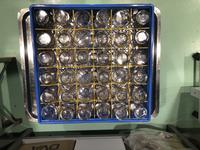Glass: (113, 9, 131, 28), (74, 10, 92, 28), (74, 29, 92, 47), (35, 31, 54, 48), (40, 87, 57, 105), (56, 31, 74, 48), (53, 9, 71, 26), (95, 85, 112, 103), (37, 50, 56, 66), (40, 105, 59, 121), (113, 84, 129, 103), (55, 50, 75, 65), (75, 68, 92, 85), (131, 67, 148, 84), (35, 10, 51, 28), (131, 84, 147, 102), (113, 68, 131, 84), (130, 49, 148, 65), (39, 69, 56, 85), (58, 70, 75, 86), (77, 85, 93, 102), (113, 103, 129, 120), (94, 31, 110, 48), (131, 104, 148, 120), (113, 31, 130, 47), (112, 50, 130, 65), (95, 103, 111, 119), (60, 105, 75, 122), (77, 104, 92, 121), (59, 89, 75, 104), (76, 50, 91, 66), (95, 10, 110, 26), (133, 30, 149, 45), (134, 10, 149, 26), (96, 50, 110, 66), (97, 68, 110, 85)
